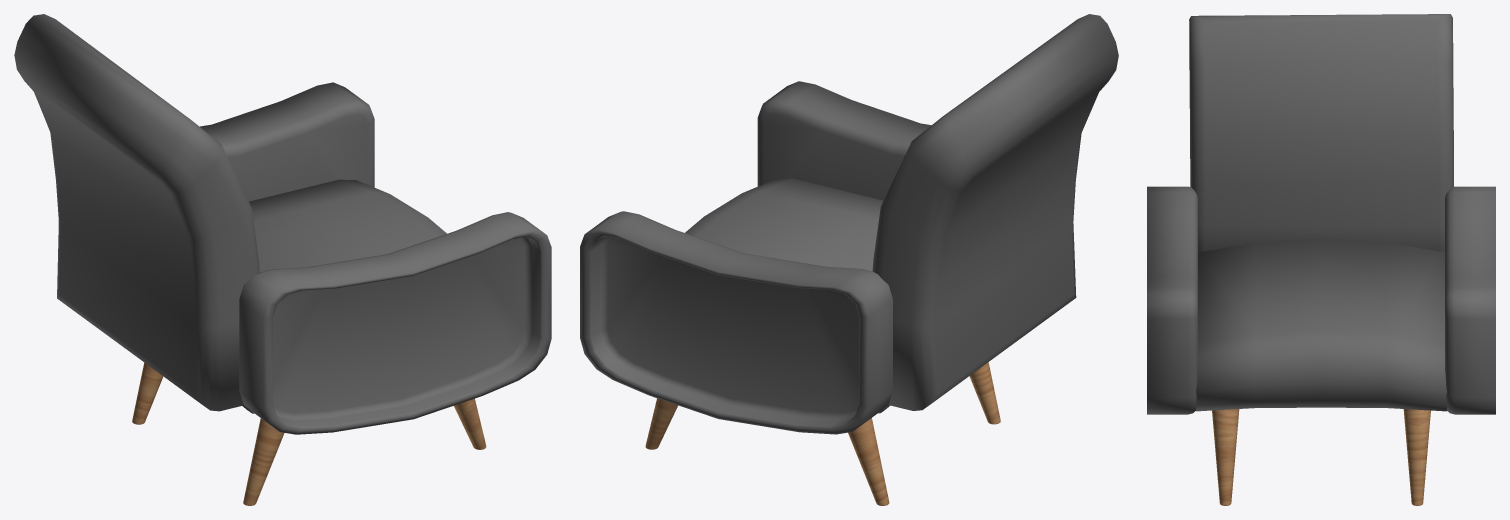
Rendered from obj_modern_chair_c603a9.glb.
The picture shows the model from 3 angles, left to right: view 1: azimuth 30°, elevation 25°; view 2: azimuth 150°, elevation 25°; view 3: azimuth 270°, elevation 25°; orthographic projection. The views are drawn at different scales.
Parts seen in each view (by area): view 1: obj_modern_chair_c603a9; view 2: obj_modern_chair_c603a9; view 3: obj_modern_chair_c603a9.
Part boxes in pixels (box(x1,y1,x2,y2)): obj_modern_chair_c603a9: box(14, 14, 551, 505); obj_modern_chair_c603a9: box(580, 14, 1118, 505); obj_modern_chair_c603a9: box(1147, 14, 1495, 505).
Bounding box in the file's own units: 0.774 × 0.85 × 0.7487.
Materials: 1 (1 with a texture image).
